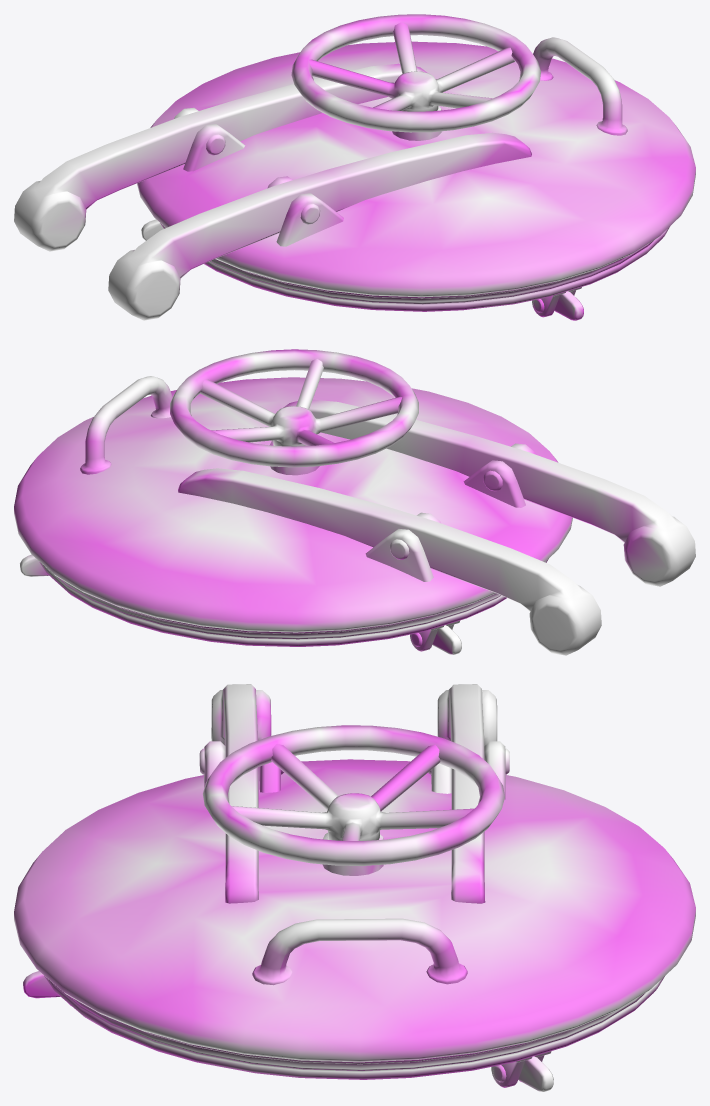
Rendered from SM_Hatch_B.fbx.
3 renders of one model, top to bottom at view 1: azimuth 30°, elevation 25°; view 2: azimuth 150°, elevation 25°; view 3: azimuth 270°, elevation 25°, orthographic. The views are drawn at different scales.
Visible parts, largest first — view 1: SM_Hatch_B_LOD0; view 2: SM_Hatch_B_LOD0; view 3: SM_Hatch_B_LOD0.
Boxes of the visible parts, x1,y1,x2,y2 form: SM_Hatch_B_LOD0: [14, 14, 695, 320]; SM_Hatch_B_LOD0: [14, 349, 695, 655]; SM_Hatch_B_LOD0: [14, 684, 695, 1091].
Size of the model in its own units: 139 by 117 by 41.28.
